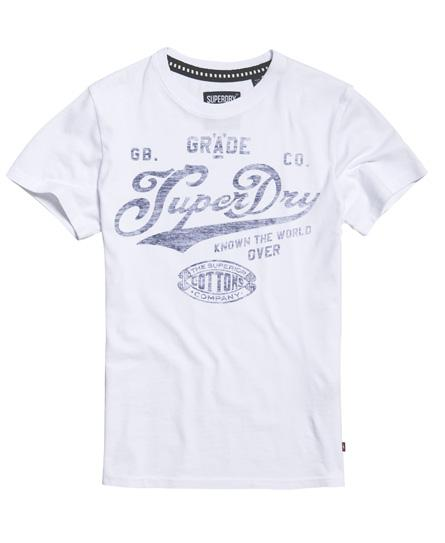teeshirt: (5, 42, 430, 510)
